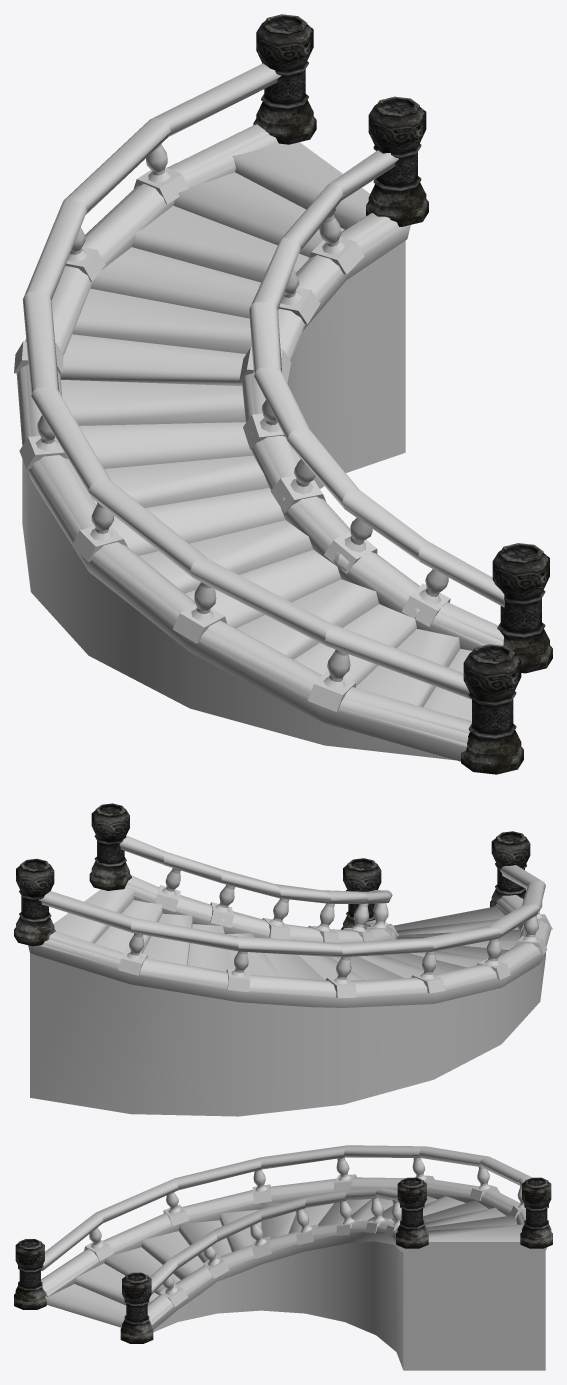
File: round_solid_left.dae
The picture shows the model from 3 angles, top to bottom: view 1: azimuth 30°, elevation 25°; view 2: azimuth 150°, elevation 25°; view 3: azimuth 270°, elevation 25°; orthographic projection. The views are drawn at different scales.
Parts seen in each view (by area): view 1: polySurface111, polySurface75, polySurface42, polySurface110; view 2: polySurface42, polySurface111, polySurface75, polySurface110; view 3: polySurface42, polySurface111, polySurface75, polySurface110.
Boxes of the visible parts, x1,y1,x2,y2 form: polySurface111: (14,63,504,761); polySurface75: (60,142,472,721); polySurface42: (22,240,455,760); polySurface110: (253,14,552,774); polySurface42: (30,952,545,1116); polySurface111: (28,835,552,1007); polySurface75: (53,888,521,980); polySurface110: (14,803,530,946); polySurface42: (153,1241,545,1370); polySurface111: (41,1145,546,1329); polySurface75: (45,1196,523,1327); polySurface110: (14,1177,552,1343).
Size of what is drawn, in the model's own units: 859 by 593 by 1517.
